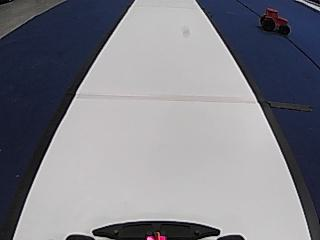Tracktor: (257, 5, 293, 38)
